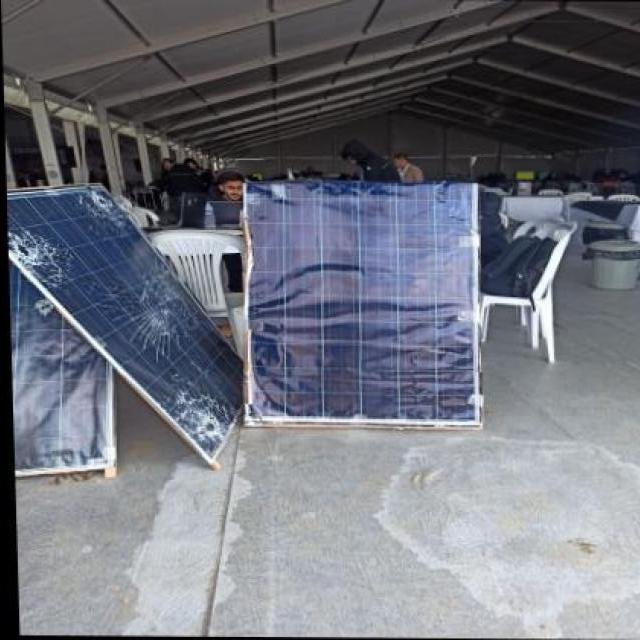cracked: (3, 175, 244, 477)
